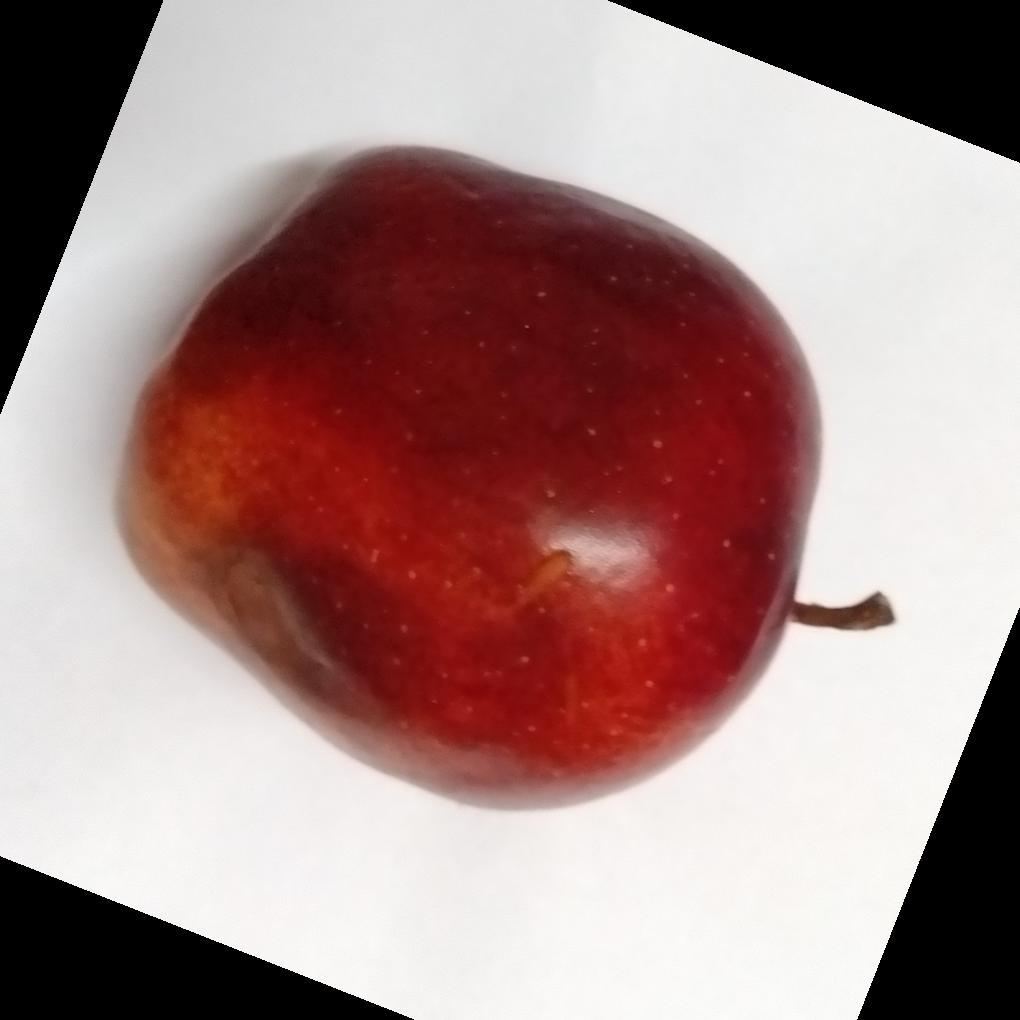FreshOrange: (111, 146, 824, 816)
